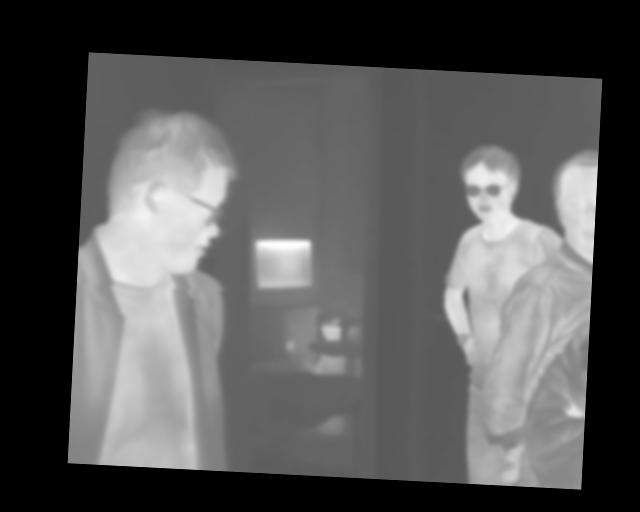face: (459, 143, 520, 222)
